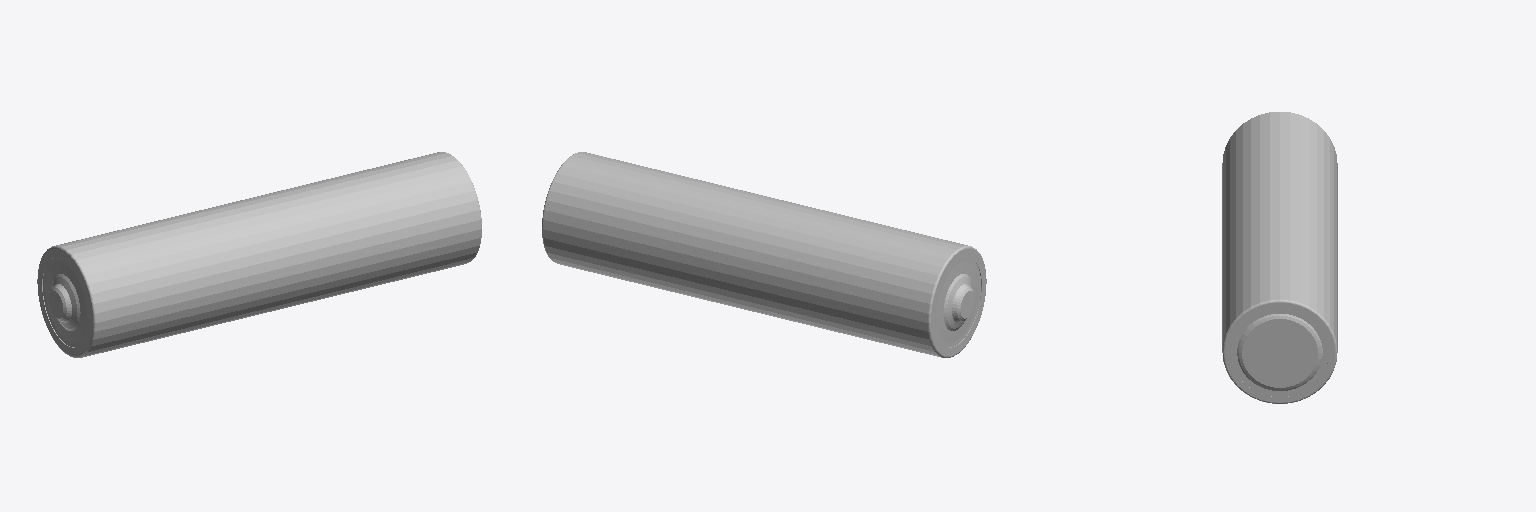
Rendered from battery.obj.
The picture shows the model from 3 angles: view 1: azimuth 30°, elevation 25°; view 2: azimuth 150°, elevation 25°; view 3: azimuth 270°, elevation 25°; orthographic projection.
Parts seen in each view (by area): view 1: Battery; view 2: Battery; view 3: Battery.
Boxes of the visible parts, box(x1,y1,x2,y2) form: Battery: box(37, 152, 481, 357); Battery: box(542, 152, 986, 357); Battery: box(1222, 112, 1337, 403).
Bounding box in the file's own units: 192 × 48 × 48.